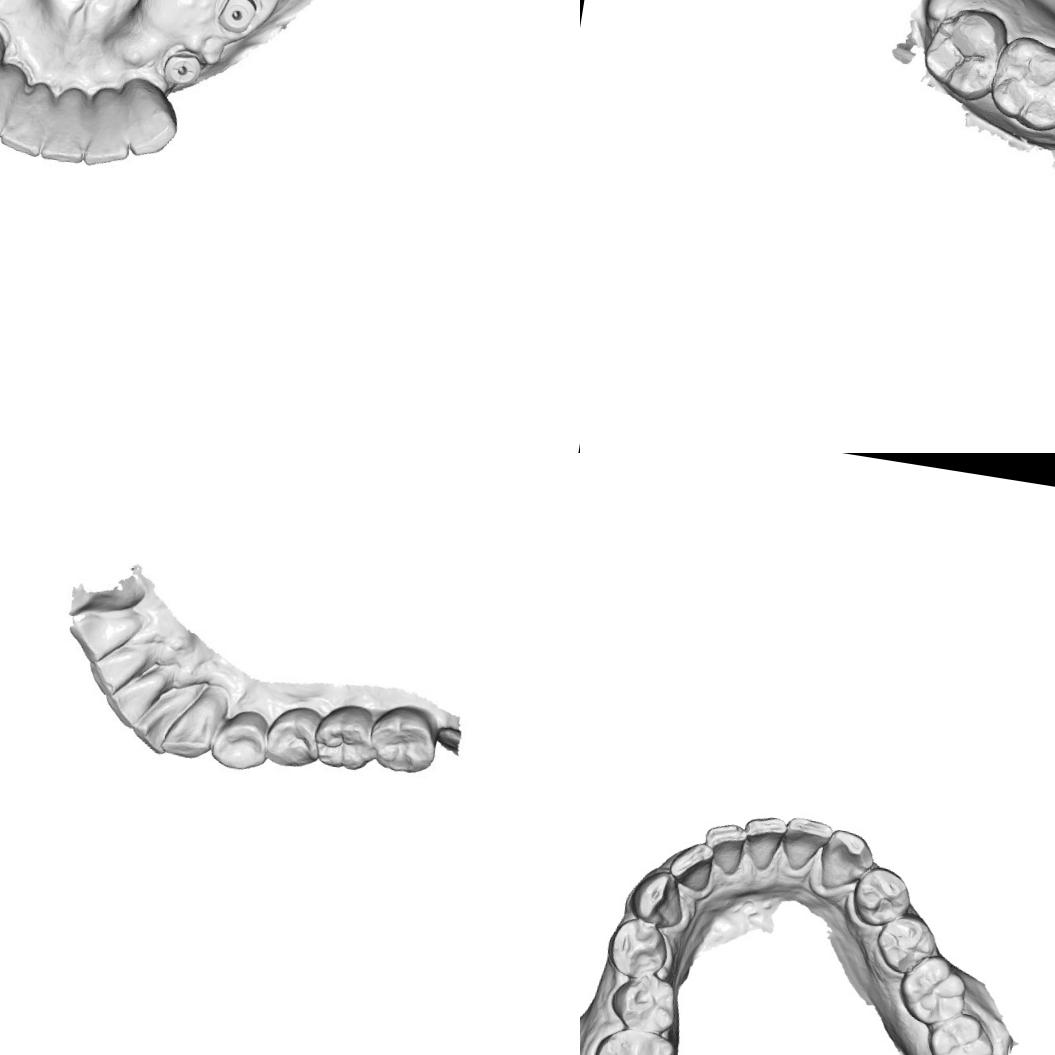canine: (113, 75, 184, 162), (162, 681, 226, 758), (816, 826, 878, 895), (626, 867, 690, 930)
implant: (211, 0, 264, 42)
implant_plus: (154, 36, 210, 98)
incisor: (132, 674, 206, 752), (63, 599, 141, 664), (102, 659, 172, 729), (40, 84, 98, 160), (86, 90, 140, 167), (88, 636, 152, 700), (4, 76, 52, 154), (737, 812, 790, 874), (780, 815, 832, 875), (667, 839, 717, 895), (698, 820, 747, 877), (0, 59, 27, 142)
molar: (922, 6, 1006, 94), (895, 950, 971, 1028), (991, 35, 1055, 125), (368, 704, 442, 780), (312, 704, 381, 774), (922, 1007, 999, 1055), (585, 1022, 682, 1055)
premolar: (608, 970, 682, 1036), (605, 916, 674, 984), (871, 912, 939, 980), (848, 864, 914, 932), (208, 708, 271, 773), (266, 703, 320, 767)
